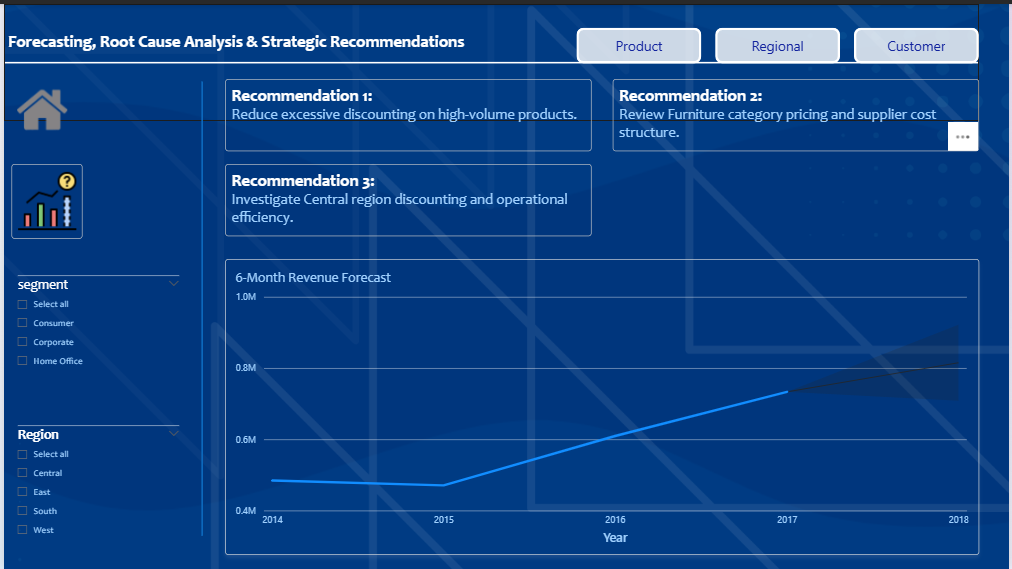

What the dashboard file says about the page in this screenshot:
{"tool":"powerbi","page":{"name":"Forecasting Analytics","canvas":[1280,720],"ordinal":5},"visuals":[{"type":"slicer","fields":{"Values":["superstore_cleaned.segment"]},"box":[9.5,346.1,221.3,151.3],"z":0},{"type":"shape","box":[0,0,1240.7,149.4],"z":1000},{"type":"group","id":"g1","title":"Group 1","box":[0,29.9,1240.7,51.3],"z":2000},{"type":"shape","box":[175.9,98.3,151.3,578.7],"z":3000},{"type":"textbox","box":[0,29.9,1214.2,51.3],"z":5000,"group":"g1"},{"type":"textbox","box":[281.7,95.5,466.3,92.3],"z":5000,"group":"g2"},{"type":"slicer","fields":{"Values":["superstore_cleaned.region"]},"box":[9.5,536.5,221.3,183.5],"z":5000},{"type":"textbox","box":[775.1,95.5,466.3,92.3],"z":6000},{"type":"actionButton","box":[728.1,30.2,158.9,45.4],"z":7000,"group":"g1"},{"type":"actionButton","box":[13.2,98.3,100.2,71.9],"z":7000},{"type":"actionButton","box":[905.9,30.2,158.9,45.4],"z":8000,"group":"g1"},{"type":"lineChart","title":"6-Month Revenue Forecast","fields":{"Category":["superstore_cleaned.order_date.Variation.Date Hierarchy.Year","superstore_cleaned.order_date.Variation.Date Hierarchy.Quarter","superstore_cleaned.order_date.Variation.Date Hierarchy.Month","superstore_cleaned.order_date.Variation.Date Hierarchy.Day"],"Y":["superstore_cleaned.Total Revenue"]},"box":[281.7,324.7,959.7,377.2],"z":8000},{"type":"actionButton","box":[1081.8,30.2,158.9,45.4],"z":9000,"group":"g1"},{"type":"group","id":"g2","title":"Group 1","box":[281.7,95.5,466.3,92.3],"z":9000},{"type":"textbox","box":[281.7,203.7,466.3,92.3],"z":10000},{"type":"actionButton","box":[9.5,203.7,90.7,95.5],"z":11000}]}

Visuals, with their boxes in screenshot pixels (x1, y1, x2, y2), scaled from the page's 1280x720 canvas onto the 1012x569 screenshot:
slicer - superstore_cleaned.segment: bbox=[8, 274, 182, 393]
shape: bbox=[0, 0, 981, 118]
"Group 1" group: bbox=[0, 24, 981, 64]
shape: bbox=[139, 78, 259, 535]
textbox: bbox=[0, 24, 960, 64]
textbox: bbox=[223, 75, 591, 148]
slicer - superstore_cleaned.region: bbox=[8, 424, 182, 568]
textbox: bbox=[613, 75, 981, 148]
actionButton: bbox=[576, 24, 701, 60]
actionButton: bbox=[10, 78, 90, 135]
actionButton: bbox=[716, 24, 842, 60]
"6-Month Revenue Forecast" lineChart: bbox=[223, 257, 981, 555]
actionButton: bbox=[855, 24, 981, 60]
"Group 1" group: bbox=[223, 75, 591, 148]
textbox: bbox=[223, 161, 591, 234]
actionButton: bbox=[8, 161, 79, 236]
